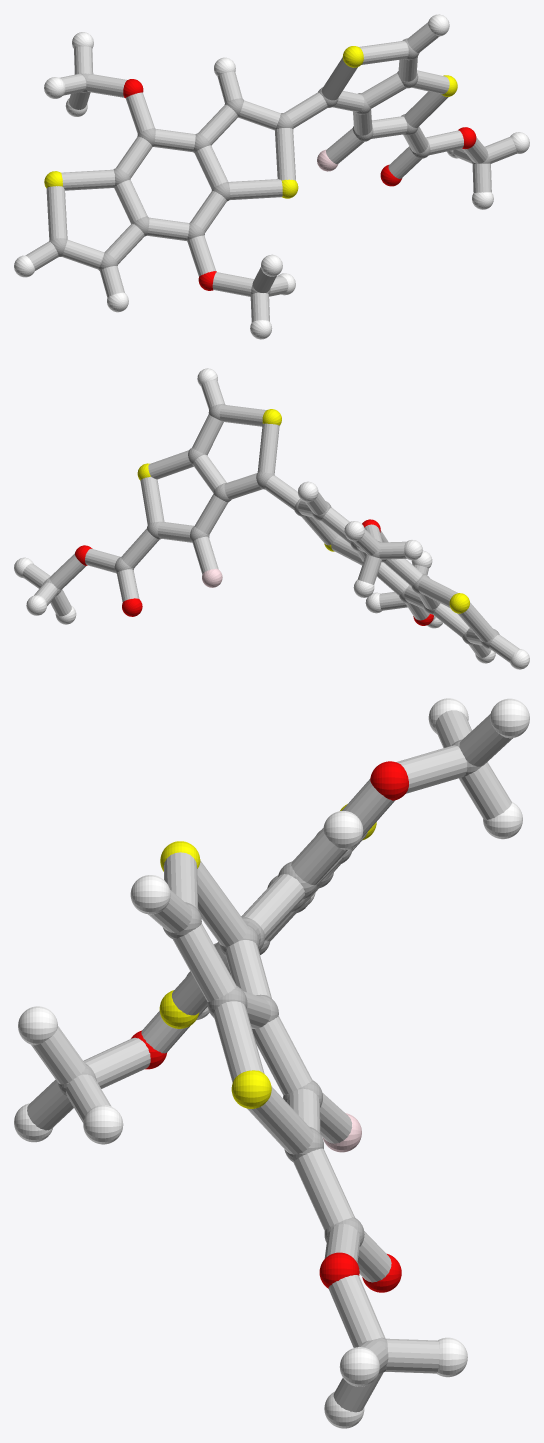
Rendered from color.glb.
3 views of the same model, one above another, from view 1: azimuth 30°, elevation 25°; view 2: azimuth 150°, elevation 25°; view 3: azimuth 270°, elevation 25° (orthographic). The views are drawn at different scales.
Visible parts, largest first — view 1: grp15205, grp8689, grp1, grp7241, grp13395; view 2: grp15205, grp8689, grp1, grp7241, grp13395; view 3: grp15205, grp8689, grp1, grp13395, grp7241.
Boxes of the visible parts, x1,y1,x2,y2 form: grp15205: [26, 22, 516, 322]; grp8689: [14, 14, 529, 339]; grp1: [49, 38, 490, 294]; grp7241: [44, 46, 457, 198]; grp13395: [123, 79, 476, 290]; grp15205: [22, 380, 519, 662]; grp8689: [14, 368, 529, 669]; grp1: [43, 404, 499, 648]; grp7241: [137, 409, 469, 613]; grp13395: [75, 519, 433, 625]; grp15205: [27, 710, 512, 1412]; grp8689: [14, 698, 529, 1428]; grp1: [58, 739, 481, 1373]; grp13395: [131, 761, 408, 1292]; grp7241: [159, 804, 376, 1108].
Size of the model in its own units: 16.61 by 7.67 by 7.73.
